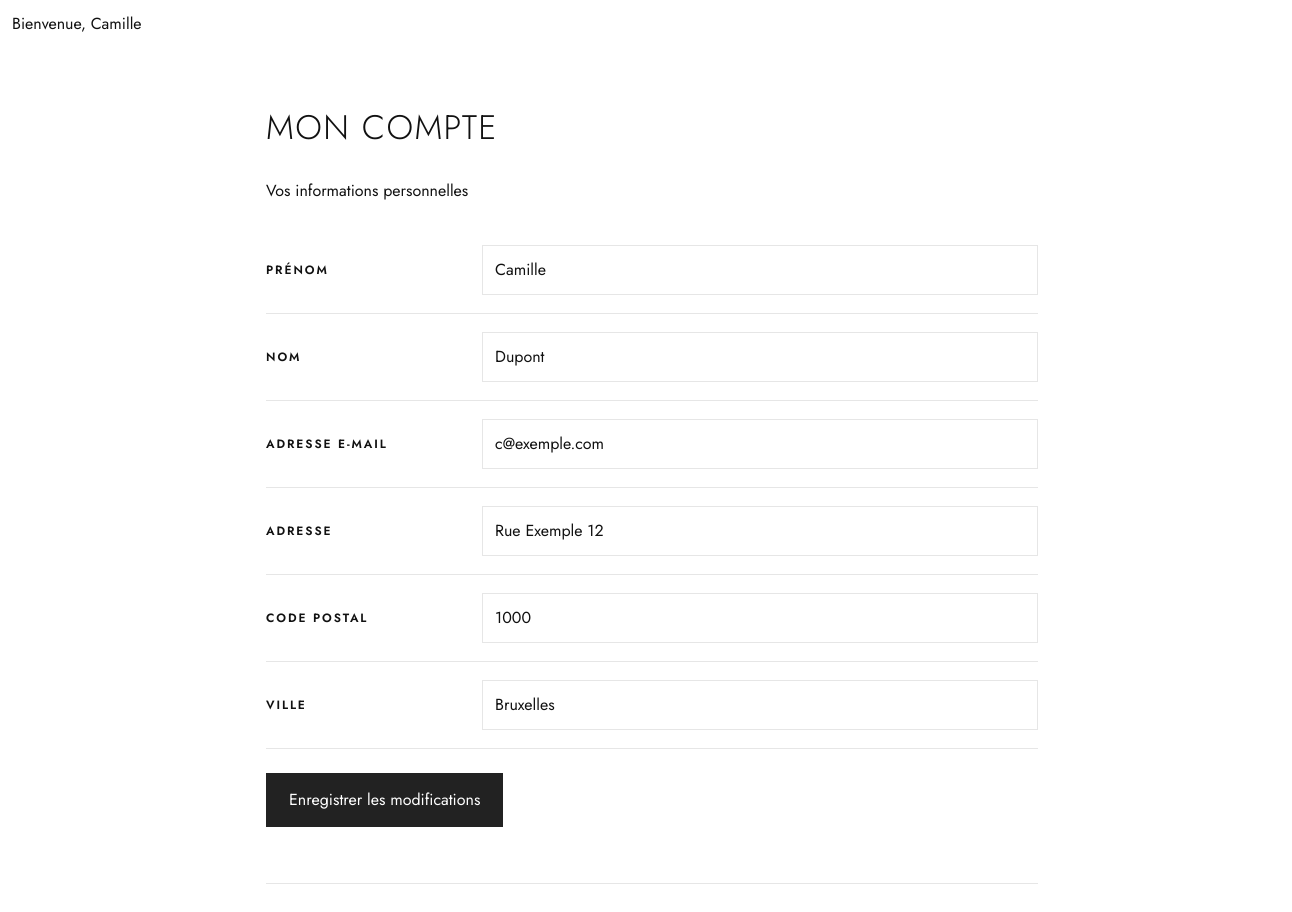
Test case: US6 › sans champ utilisable (message connu sans champ désigné), place le focus sur le premier champ
The image size is (1292, 912).
Check: the field showing "Bruxelles" is shown, box [482,680,1038,730]
Click the button "Enregistrer les modifications".
click(385, 800)  # box [266,773,503,827]
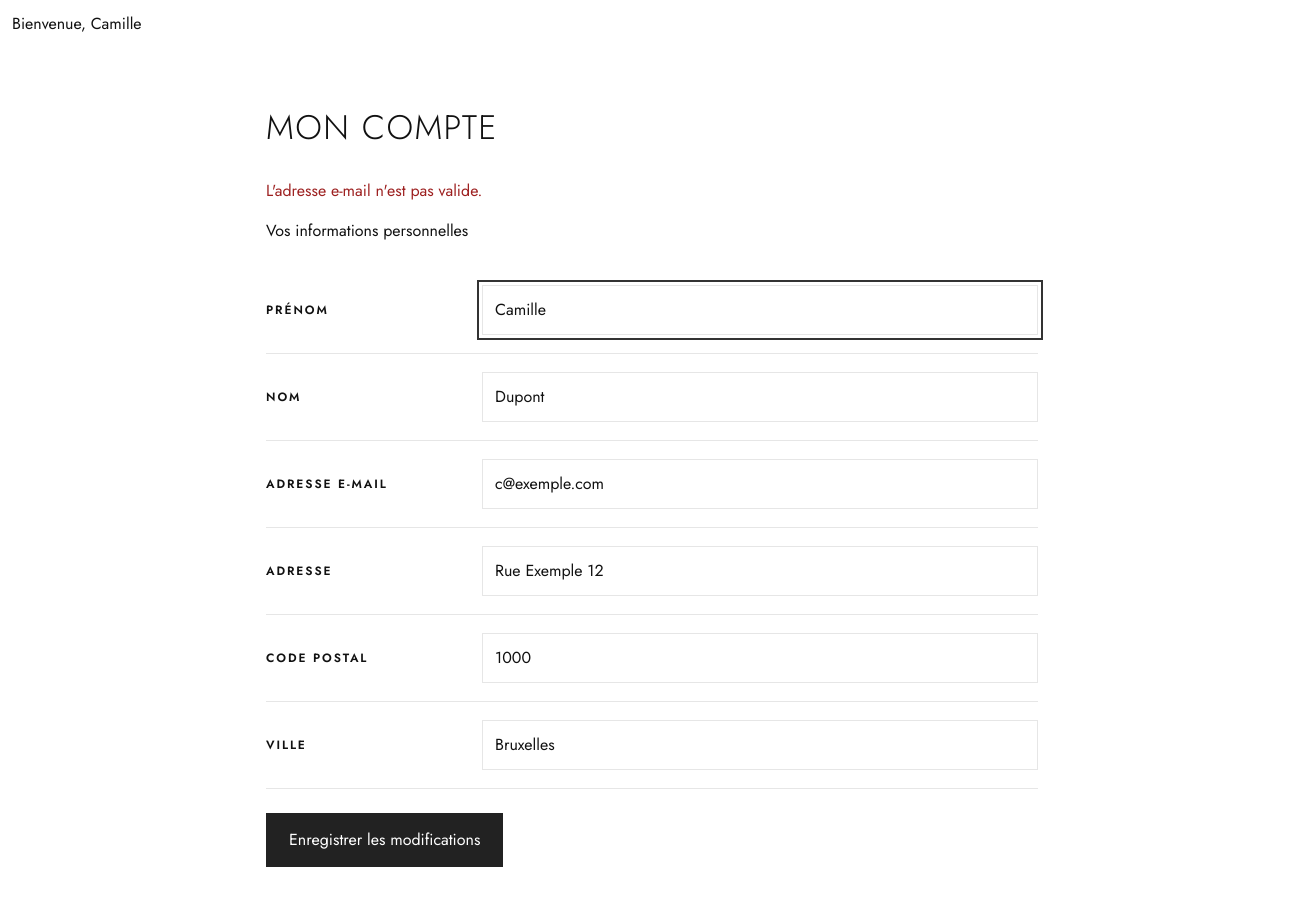
Check: the message reads "L'adresse e-mail n'est pas valide.", box [266,179,482,202]
